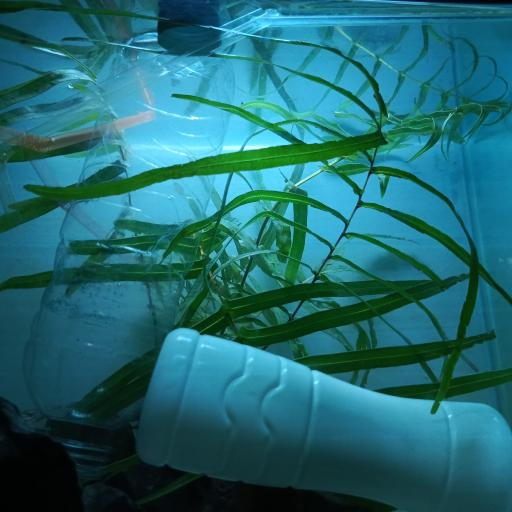bottle_cap: (157, 13, 222, 55)
plastic_bottle: (26, 31, 237, 489), (135, 326, 512, 507)
plastic_straw: (2, 12, 302, 210), (3, 10, 270, 154), (10, 107, 160, 154), (29, 154, 108, 240), (253, 10, 512, 31)
